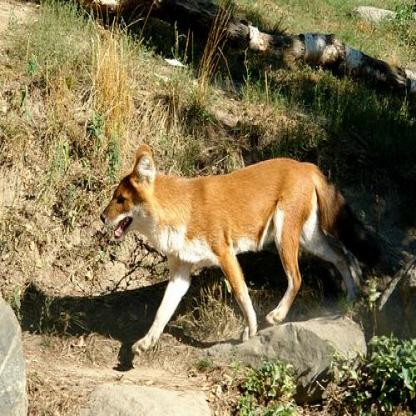dhole: (97, 137, 342, 356)
